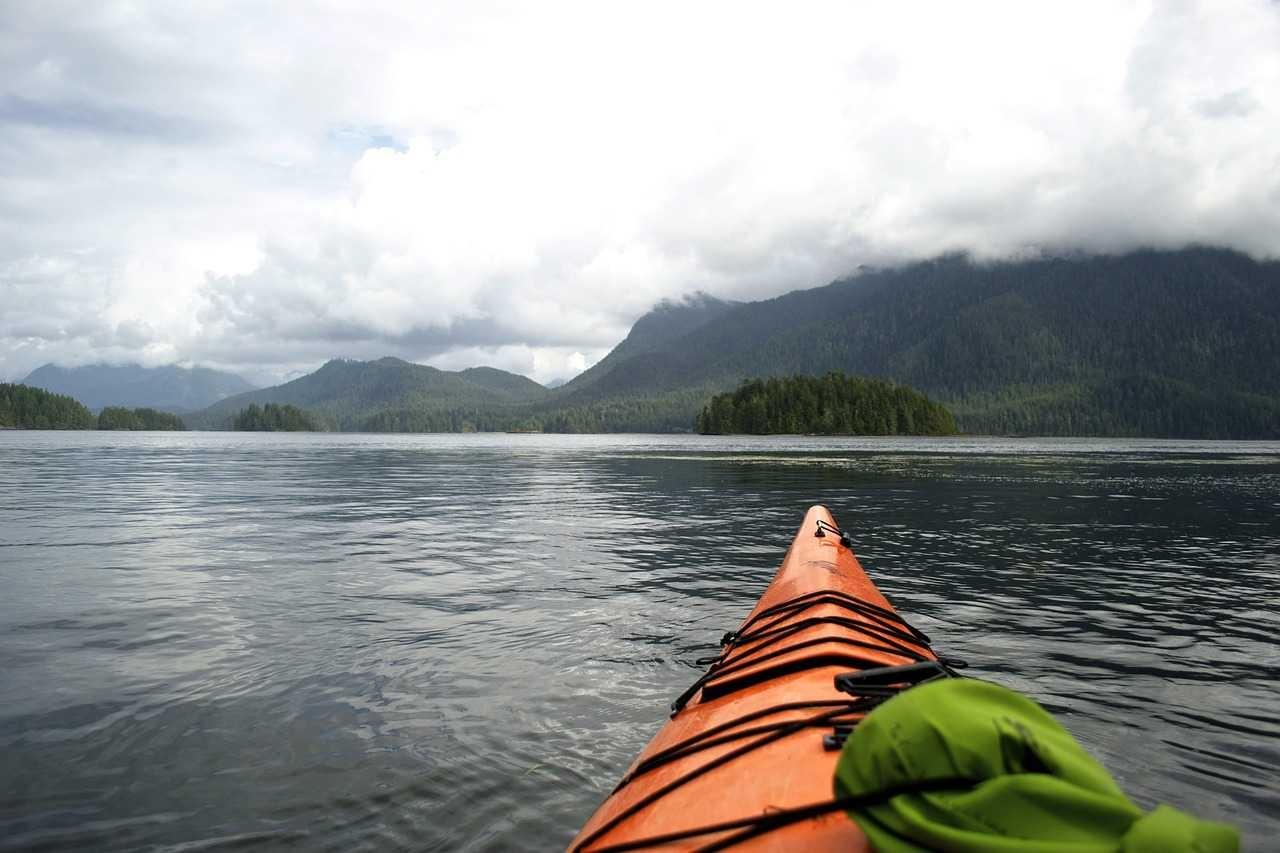kayak: (569, 501, 1244, 848)
